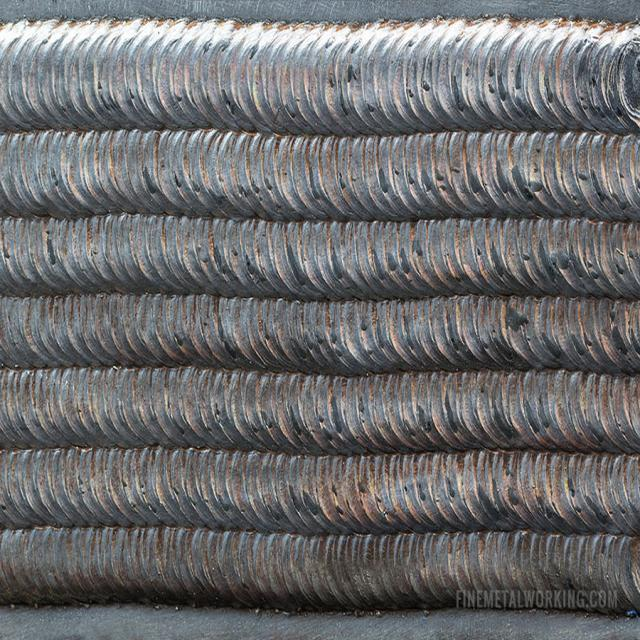Dry: (1, 16, 638, 592)
